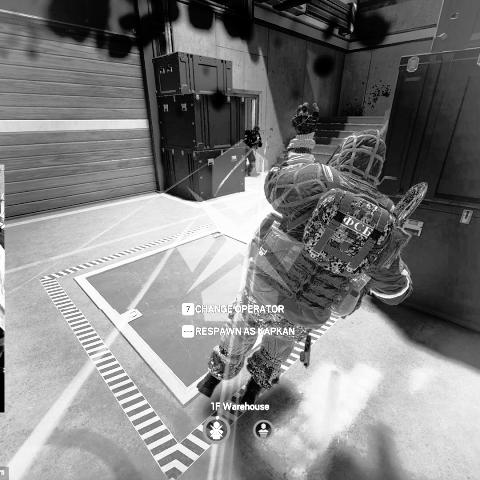Character: (195, 99, 430, 407), (244, 124, 264, 178)
Head: (333, 126, 390, 186), (253, 125, 260, 135)
